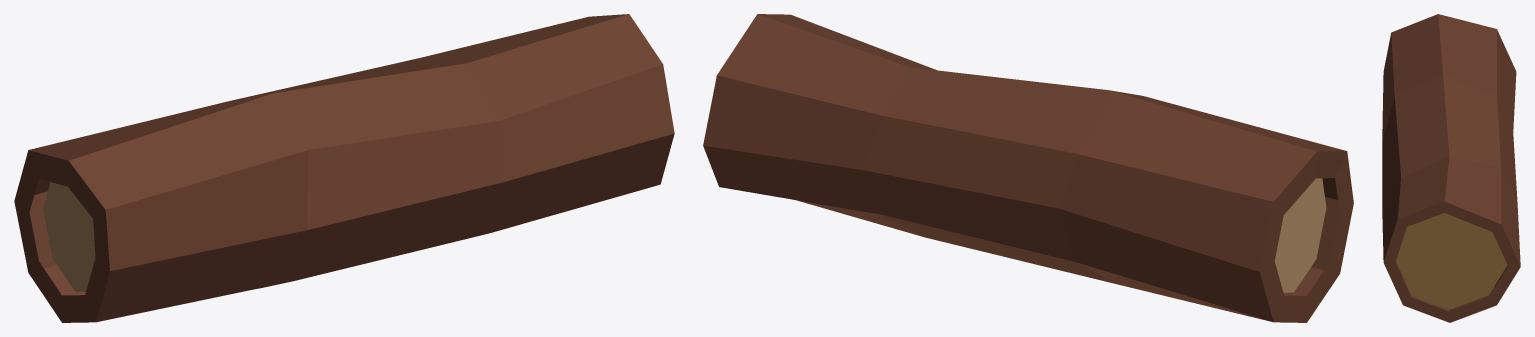
File: Log.glb
3 renders of one model, left to right at view 1: azimuth 30°, elevation 25°; view 2: azimuth 150°, elevation 25°; view 3: azimuth 270°, elevation 25°, orthographic. The views are drawn at different scales.
Visible parts, largest first — view 1: Log; view 2: Log; view 3: Log.
Part boxes in pixels (left/top/right/bottom): Log: left=14, top=14, right=674, bottom=322; Log: left=703, top=14, right=1353, bottom=322; Log: left=1382, top=14, right=1520, bottom=322.
Size of the model in its own units: 3.38 by 1.1 by 1.03.
